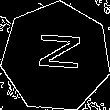N_W: (30, 35, 82, 79)
